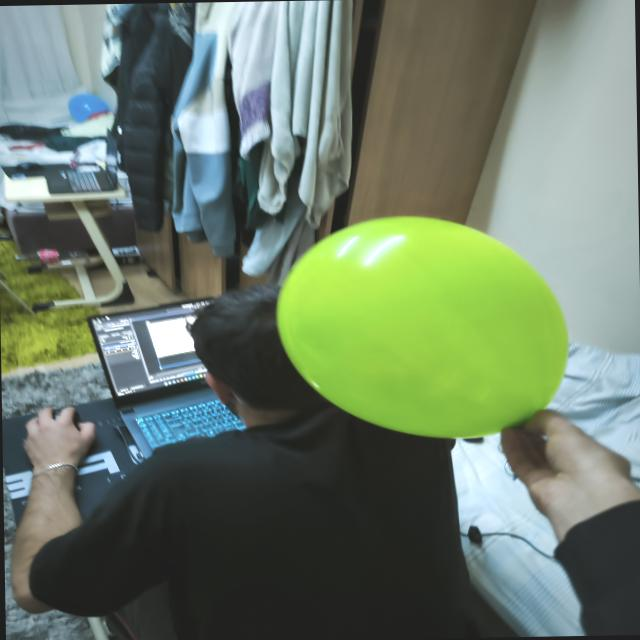balloon: (277, 216, 568, 437), (68, 94, 109, 122)
